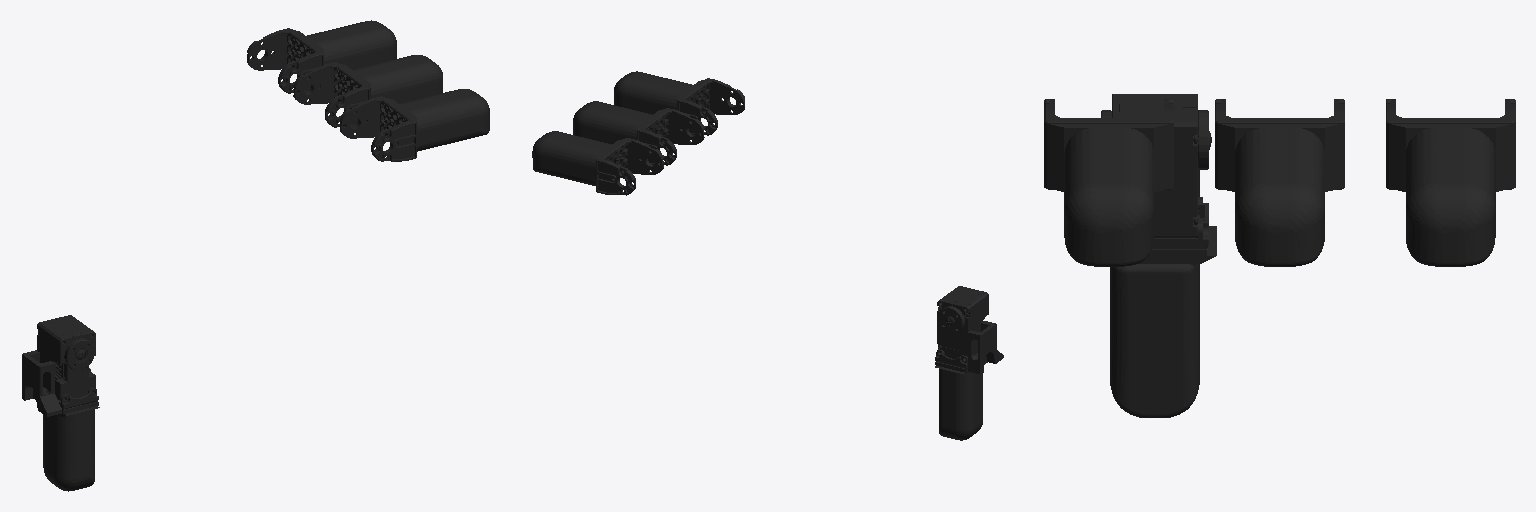
robot.urdf — onshape:
<robot name="onshape">

  <link name="palm_lower">
    <visual>
      <origin xyz="-0.020095249652862544332 -0.098757756134899473244 -0.034722403578460216134" rpy="0 -0 0" />
      <geometry>
        <mesh filename="../leap_hand/palm_lower_left.stl"/>
      </geometry>
      <material name="palm_lower_material">
        <color rgba="0.2 0.2 0.2 1.0"/>
      </material>
    </visual>
    <collision>
      <origin xyz="-0.040095249652862544332 -0.040757756134899473244 -0.015" rpy="0 -0 0" />
      <!-- <origin xyz="-0.020095249652862544332 0.025757756134899473244 -0.034722403578460216134" rpy="0 -0 0" /> -->
      <geometry>
        <box size="0.04 0.135 0.035"/>
        <!-- <mesh filename="../leap_hand/palm_lower_left.stl" /> -->
      </geometry>
    </collision>
    <inertial>
      <origin xyz="0 0 0" rpy="0 0 0"/>
      <mass value="0.237" />
      <inertia ixx="0.000354094" ixy="-0.000001193"  ixz="-0.000002445" iyy="0.000260915" iyz="-0.000002905" izz="0.000529257" />
    </inertial>
  </link>

  <link name="mcp_joint_1">
    <visual>
      <origin xyz="0.0084069022611744960438 0.0077662438597169954416 0.014657354985032912051" rpy="1.6375789613220999807e-15 -1.0210473302491019535e-30 1.7177968783327987474e-31" />
      <geometry>
        <mesh filename="../leap_hand/mcp_joint.stl"/>
      </geometry>
      <material name="mcp_joint_material">
        <color rgba="0.2 0.2 0.2 1.0"/>
      </material>
    </visual>
    <collision>
      <origin xyz="0.0084069022611744960438 0.0077662438597169954416 0.014657354985032912051" rpy="1.6375789613220999807e-15 -1.0210473302491019535e-30 1.7177968783327987474e-31" />
      <geometry>
        <mesh filename="../leap_hand/mcp_joint.stl" />
      </geometry>
    </collision>
    <inertial>
      <origin xyz="0 0 0" rpy="0 0 0"/>
        <mass value="0.044" />
      <inertia ixx="0.000011499" ixy="0.000003049"  ixz="0.000000121" iyy="0.000007796" iyz="0.000000112" izz="0.000014759" />
    </inertial>
  </link>

  <link name="pip_1">
    <visual>
      <origin xyz="0.0096433630922713280131 0.00029999999999998951117 0.00078403401041737645627" rpy="-1.570796326794896558 -1.570796326794896336 0" />
      <geometry>
        <mesh filename="../leap_hand/pip.stl"/>
      </geometry>
      <material name="pip_material">
        <color rgba="0.2 0.2 0.2 1.0"/>
      </material>
    </visual>
    <collision>
      <origin xyz="0.0096433630922713280131 0.00029999999999998951117 0.00078403401041737645627" rpy="-1.570796326794896558 -1.570796326794896336 0" />
      <geometry>
        <mesh filename="../leap_hand/pip.stl" />
      </geometry>
    </collision>
    <inertial>
      <origin xyz="0 0 0" rpy="0 0 0"/>
      <mass value="0.032" />
      <inertia ixx="0.000004798" ixy="0.000000012"  ixz="0.000000004" iyy="0.000002862" iyz="0.000000011" izz="0.000004234" />
    </inertial>
  </link>

  <link name="dip_1">
    <visual>
      <origin xyz="0.021133352895225002849 -0.0084321191467048792201 0.0097850881620952408213" rpy="-3.141592653589793116 4.5075111242164408299e-32 4.4395481053923607589e-32" />
      <geometry>
        <mesh filename="../leap_hand/dip.stl"/>
      </geometry>
      <material name="dip_material">
        <color rgba="0.2 0.2 0.2 1.0"/>
      </material>
    </visual>
    <collision>
      <origin xyz="0.021133352895225002849 -0.0084321191467048792201 0.0097850881620952408213" rpy="-3.141592653589793116 4.5075111242164408299e-32 4.4395481053923607589e-32" />
      <geometry>
        <mesh filename="../leap_hand/dip.stl" />
      </geometry>
    </collision>
    <inertial>
      <origin xyz="0 0 0" rpy="0 0 0"/>
      <mass value="0.037" />
      <inertia ixx="0.000005542" ixy="-0.000000607"  ixz="-0.000000017" iyy="0.000005727" iyz="-0.000000023" izz="0.000006682" />
    </inertial>
  </link>

  <link name="fingertip_1">
    <visual>
      <origin xyz="0.013286424108533503169 -0.0061142383865419869249 0.014499999999999497666" rpy="3.141592653589793116 1.1993117970061734707e-33 4.4395481053923607589e-32" />
      <geometry>
        <mesh filename="../leap_hand/fingertip.stl"/>
      </geometry>
      <material name="fingertip_material">
        <color rgba="0.2 0.2 0.2 1.0"/>
      </material>
    </visual>
    <collision>
      <origin xyz="0.013286424108533503169 -0.0061142383865419869249 0.014499999999999497666" rpy="3.141592653589793116 1.1993117970061734707e-33 4.4395481053923607589e-32" />
      <geometry>
        <mesh filename="../leap_hand/fingertip.stl" />
      </geometry>
    </collision>
    <inertial>
      <origin xyz="0 0 0" rpy="0 0 0"/>
      <mass value="0.016" />
      <inertia ixx="0.000003368" ixy="0.000000115"  ixz="0" iyy="0.000001556" iyz="0" izz="0.000002863" />
    </inertial>
  </link>

  <joint name="finger_joint_0" type="revolute">
    <origin xyz="-0.012200000000000007713 0.038099999999999994982 0.014500000000000000736" rpy="-1.570796326794896558 -1.0065212660796336576e-15 1.5707963267948943376" />
    <parent link="mcp_joint_1" />
    <child link="pip_1" />
    <axis xyz="0 0 -1"/>
    <limit effort="0.95" velocity="8.48" lower = "-1.047" upper = "1.047"/>
    <joint_properties friction="0.0"/>
  </joint>

  <joint name="finger_joint_1" type="revolute">
    <origin xyz="-0.0070952496528625457958 0.023057756134899472233 -0.01872240357846021927" rpy="1.5707963267948950037 1.5707963267948945596 0" />
    <parent link="palm_lower" />
    <child link="mcp_joint_1" />
    <axis xyz="0 0 -1"/>
    <limit effort="0.95" velocity="8.48" lower = "-0.314" upper = "2.23"/>
    <joint_properties friction="0.0"/>
  </joint>

  <joint name="finger_joint_2" type="revolute">
    <origin xyz="0.01499999999999996822 0.014299999999999904801 -0.012999999999999824196" rpy="1.5707963267948958919 -1.570796326794896336 0" />
    <parent link="pip_1" />
    <child link="dip_1" />
    <axis xyz="0 0 -1"/>
    <limit effort="0.95" velocity="8.48" lower = "-0.506" upper = "1.885"/>
    <joint_properties friction="0.0"/>
  </joint>

  <joint name="finger_joint_3" type="revolute">
    <origin xyz="-4.0880582495572692636e-09 -0.036100004210367367397 0.00020000000000007858714" rpy="4.5935029425113685044e-17 -2.8730071914463794583e-16 4.4395481053923607589e-32" />
    <parent link="dip_1" />
    <child link="fingertip_1" />
    <axis xyz="0 0 -1"/>
    <limit effort="0.95" velocity="8.48" lower = "-0.366" upper = "2.042"/>
    <joint_properties friction="0.0"/>
  </joint>

  <link name="mcp_joint_2">
    <visual>
      <origin xyz="0.0084069022611744960438 0.0077662438597169954416 0.014657354985032913786" rpy="1.6375789613220999807e-15 -1.0076465469034000467e-30 2.1209300131419907151e-61" />
      <geometry>
        <mesh filename="../leap_hand/mcp_joint.stl"/>
      </geometry>
      <material name="mcp_joint_material">
        <color rgba="0.2 0.2 0.2 1.0"/>
      </material>
    </visual>
    <collision>
      <origin xyz="0.0084069022611744960438 0.0077662438597169954416 0.014657354985032913786" rpy="1.6375789613220999807e-15 -1.0076465469034000467e-30 2.1209300131419907151e-61" />
      <geometry>
        <mesh filename="../leap_hand/mcp_joint.stl" />
      </geometry>
    </collision>
    <inertial>
      <origin xyz="0 0 0" rpy="0 0 0"/>
      <mass value="0.044" />
      <inertia ixx="0.000011499" ixy="0.000003049"  ixz="0.000000121" iyy="0.000007796" iyz="0.000000112" izz="0.000014759" />
    </inertial>
  </link>

  <link name="pip_2">
    <visual>
      <origin xyz="0.0096433630922713280131 0.00029999999999999471534 0.00078403401041737645627" rpy="-1.570796326794896558 -1.570796326794896336 0" />
      <geometry>
        <mesh filename="../leap_hand/pip.stl"/>
      </geometry>
      <material name="pip_material">
        <color rgba="0.2 0.2 0.2 1.0"/>
      </material>
    </visual>
    <collision>
      <origin xyz="0.0096433630922713280131 0.00029999999999999471534 0.00078403401041737645627" rpy="-1.570796326794896558 -1.570796326794896336 0" />
      <geometry>
        <mesh filename="../leap_hand/pip.stl" />
      </geometry>
    </collision>
    <inertial>
      <origin xyz="0 0 0" rpy="0 0 0"/>
      <mass value="0.032" />
      <inertia ixx="0.000004798" ixy="0.000000012"  ixz="0.000000004" iyy="0.000002862" iyz="0.000000011" izz="0.000004234" />
    </inertial>
  </link>

  <link name="dip_2">
    <visual>
      <origin xyz="0.021133352895225002849 -0.0084321191467048653423 0.0097850881620952373519" rpy="-3.141592653589793116 2.1146933785271955805e-32 1.4408183216511868558e-31" />
      <geometry>
        <mesh filename="../leap_hand/dip.stl"/>
      </geometry>
      <material name="dip_material">
        <color rgba="0.2 0.2 0.2 1.0"/>
      </material>
    </visual>
    <collision>
      <origin xyz="0.021133352895225002849 -0.0084321191467048653423 0.0097850881620952373519" rpy="-3.141592653589793116 2.1146933785271955805e-32 1.4408183216511868558e-31" />
      <geometry>
        <mesh filename="../leap_hand/dip.stl" />
      </geometry>
    </collision>
    <inertial>
      <origin xyz="0 0 0" rpy="0 0 0"/>
      <mass value="0.037" />
      <inertia ixx="0.000005542" ixy="-0.000000607"  ixz="-0.000000017" iyy="0.000005727" iyz="-0.000000023" izz="0.000006682" />
    </inertial>
  </link>

  <link name="fingertip_2">
    <visual>
      <origin xyz="0.01328642410853349623 -0.0061142383865420008027 0.014499999999999495931" rpy="3.141592653589793116 -4.3179597882835943107e-33 1.4408183216511868558e-31" />
      <geometry>
        <mesh filename="../leap_hand/fingertip.stl"/>
      </geometry>
      <material name="fingertip_material">
        <color rgba="0.2 0.2 0.2 1.0"/>
      </material>
    </visual>
    <collision>
      <origin xyz="0.01328642410853349623 -0.0061142383865420008027 0.014499999999999495931" rpy="3.141592653589793116 -4.3179597882835943107e-33 1.4408183216511868558e-31" />
      <geometry>
        <mesh filename="../leap_hand/fingertip.stl" />
      </geometry>
    </collision>
    <inertial>
      <origin xyz="0 0 0" rpy="0 0 0"/>
      <mass value="0.016" />
      <inertia ixx="0.000003368" ixy="0.000000115"  ixz="0" iyy="0.000001556" iyz="0" izz="0.000002863" />
    </inertial>
  </link>

  <joint name="finger_joint_4" type="revolute">
    <origin xyz="-0.012200000000000019856 0.038099999999999981104 0.01450000000000000594" rpy="-1.570796326794896558 -1.0065212760057939085e-15 1.5707963267948943376" />
    <parent link="mcp_joint_2" />
    <child link="pip_2" />
    <axis xyz="0 0 -1"/>
    <limit effort="0.95" velocity="8.48" lower = "-1.047" upper = "1.047"/>
    <joint_properties friction="0.0"/>
  </joint>

  <joint name="finger_joint_5" type="revolute">
    <origin xyz="-0.0070952496528625388569 -0.022392243865100525113 -0.018722403578460229678" rpy="1.570796326794896558 1.570796326794896558 0" />
    <parent link="palm_lower" />
    <child link="mcp_joint_2" />
    <axis xyz="0 0 -1"/>
    <limit effort="0.95" velocity="8.48" lower = "-0.314" upper = "2.23"/>
    <joint_properties friction="0.0"/>
  </joint>

  <joint name="finger_joint_6" type="revolute">
    <origin xyz="0.014999999999999975159 0.014300000000000000211 -0.013000000000000018485" rpy="1.5707963267948958919 -1.570796326794896336 0" />
    <parent link="pip_2" />
    <child link="dip_2" />
    <axis xyz="0 0 -1"/>
    <limit effort="0.95" velocity="8.48" lower = "-0.506" upper = "1.885"/>
    <joint_properties friction="0.0"/>
  </joint>

  <joint name="finger_joint_7" type="revolute">
    <origin xyz="1.0061396160665481148e-16 -0.036099999999999854428 0.00020000000000007858714" rpy="4.5935029425113654229e-17 -2.8730071914463794583e-16 1.4408183216511868558e-31" />
    <parent link="dip_2" />
    <child link="fingertip_2" />
    <axis xyz="0 0 -1"/>
    <limit effort="0.95" velocity="8.48" lower = "-0.366" upper = "2.042"/>
    <joint_properties friction="0.0"/>
  </joint>

  <link name="mcp_joint_3">
    <visual>
      <origin xyz="0.0084069022611744995133 0.0077662438597169963089 0.014657354985032913786" rpy="1.6375789613220999807e-15 -1.0059504988632626953e-30 5.729641584552035421e-32" />
      <geometry>
        <mesh filename="../leap_hand/mcp_joint.stl"/>
      </geometry>
      <material name="mcp_joint_material">
        <color rgba="0.2 0.2 0.2 1.0"/>
      </material>
    </visual>
    <collision>
      <origin xyz="0.0084069022611744995133 0.0077662438597169963089 0.014657354985032913786" rpy="1.6375789613220999807e-15 -1.0059504988632626953e-30 5.729641584552035421e-32" />
      <geometry>
        <mesh filename="../leap_hand/mcp_joint.stl" />
      </geometry>
    </collision>
    <inertial>
      <origin xyz="0 0 0" rpy="0 0 0"/>
      <mass value="0.044" />
      <inertia ixx="0.000011499" ixy="0.000003049"  ixz="0.000000121" iyy="0.000007796" iyz="0.000000112" izz="0.000014759" />
    </inertial>
  </link>

  <link name="pip_3">
    <visual>
      <origin xyz="0.0096433630922713314826 0.00029999999999998083755 0.00078403401041737645627" rpy="-1.570796326794896558 -1.570796326794896336 0" />
      <geometry>
        <mesh filename="../leap_hand/pip.stl"/>
      </geometry>
      <material name="pip_material">
        <color rgba="0.2 0.2 0.2 1.0"/>
      </material>
    </visual>
    <collision>
      <origin xyz="0.0096433630922713314826 0.00029999999999998083755 0.00078403401041737645627" rpy="-1.570796326794896558 -1.570796326794896336 0" />
      <geometry>
        <mesh filename="../leap_hand/pip.stl" />
      </geometry>
    </collision>
    <inertial>
      <origin xyz="0 0 0" rpy="0 0 0"/>
      <mass value="0.032" />
      <inertia ixx="0.000004798" ixy="0.000000012"  ixz="0.000000004" iyy="0.000002862" iyz="0.000000011" izz="0.000004234" />
    </inertial>
  </link>

  <link name="dip_3">
    <visual>
      <origin xyz="0.021133352895225006318 -0.0084321191467048653423 0.0097850881620952373519" rpy="-3.141592653589793116 -1.4095651113919093005e-33 1.5565411607615035382e-32" />
      <geometry>
        <mesh filename="../leap_hand/dip.stl"/>
      </geometry>
      <material name="dip_material">
        <color rgba="0.2 0.2 0.2 1.0"/>
      </material>
    </visual>
    <collision>
      <origin xyz="0.021133352895225006318 -0.0084321191467048653423 0.0097850881620952373519" rpy="-3.141592653589793116 -1.4095651113919093005e-33 1.5565411607615035382e-32" />
      <geometry>
        <mesh filename="../leap_hand/dip.stl" />
      </geometry>
    </collision>
    <inertial>
      <origin xyz="0 0 0" rpy="0 0 0"/>
      <mass value="0.037" />
      <inertia ixx="0.000005542" ixy="-0.000000607"  ixz="-0.000000017" iyy="0.000005727" iyz="-0.000000023" izz="0.000006682" />
    </inertial>
  </link>

  <link name="fingertip_3">
    <visual>
      <origin xyz="0.013286424108533501434 -0.0061142383865419869249 0.0144999999999994994" rpy="3.141592653589793116 8.6170716950575402125e-33 1.5565411607615035382e-32" />
      <geometry>
        <mesh filename="../leap_hand/fingertip.stl"/>
      </geometry>
      <material name="fingertip_material">
        <color rgba="0.2 0.2 0.2 1.0"/>
      </material>
    </visual>
    <collision>
      <origin xyz="0.013286424108533501434 -0.0061142383865419869249 0.0144999999999994994" rpy="3.141592653589793116 8.6170716950575402125e-33 1.5565411607615035382e-32" />
      <geometry>
        <mesh filename="../leap_hand/fingertip.stl" />
      </geometry>
    </collision>
    <inertial>
      <origin xyz="0 0 0" rpy="0 0 0"/>
      <mass value="0.016" />
      <inertia ixx="0.000003368" ixy="0.000000115"  ixz="0" iyy="0.000001556" iyz="0" izz="0.000002863" />
    </inertial>
  </link>

  <joint name="finger_joint_8" type="revolute">
    <origin xyz="-0.012200000000000004244 0.038100000000000001921 0.014499999999999999001" rpy="-1.570796326794896558 -1.0065212660796360242e-15 1.5707963267948943376" />
    <parent link="mcp_joint_3" />
    <child link="pip_3" />
    <axis xyz="0 0 -1"/>
    <limit effort="0.95" velocity="8.48" lower = "-1.047" upper = "1.047"/>
    <joint_properties friction="0.0"/>
  </joint>

  <joint name="finger_joint_9" type="revolute">
    <origin xyz="-0.0070952454426398371343 -0.067842243865100515521 -0.018722407666402932774" rpy="1.5707963267948950037 1.5707963267948945596 0" />
    <parent link="palm_lower" />
    <child link="mcp_joint_3" />
    <axis xyz="0 0 -1"/>
    <limit effort="0.95" velocity="8.48" lower = "-0.314" upper = "2.23"/>
    <joint_properties friction="0.0"/>
  </joint>

  <joint name="finger_joint_10" type="revolute">
    <origin xyz="0.014999999999999971689 0.014299999999999951639 -0.012999999999999959505" rpy="1.5707963267948958919 -1.570796326794896336 0" />
    <parent link="pip_3" />
    <child link="dip_3" />
    <axis xyz="0 0 -1"/>
    <limit effort="0.95" velocity="8.48" lower = "-0.506" upper = "1.885"/>
    <joint_properties friction="0.0"/>
  </joint>

  <joint name="finger_joint_11" type="revolute">
    <origin xyz="9.7144514654701197287e-17 -0.036099999999999868305 0.00020000000000007511769" rpy="4.5935029425113685044e-17 -2.8730071914463799514e-16 1.5565411607615035382e-32" />
    <parent link="dip_3" />
    <child link="fingertip_3" />
    <axis xyz="0 0 -1"/>
    <limit effort="0.95" velocity="8.48" lower = "-0.366" upper = "2.042"/>
    <joint_properties friction="0.0"/>
  </joint>

  <link name="mcp_joint_4">
    <visual>
      <origin xyz="-0.0053566369077286714317 0.0029999999999999991951 0.00078403401041737819099" rpy="-1.570796326794896558 -1.570796326794896336 0" />
      <geometry>
        <mesh filename="../leap_hand/pip.stl"/>
      </geometry>
      <material name="pip_material">
        <color rgba="0.2 0.2 0.2 1.0"/>
      </material>
    </visual>
    <collision>
      <origin xyz="-0.0053566369077286714317 0.00029999999999999991951 0.00078403401041737819099" rpy="-1.570796326794896558 -1.570796326794896336 0" />
      <geometry>
        <mesh filename="../leap_hand/pip.stl" />
      </geometry>
    </collision>
    <inertial>
      <origin xyz="0 0 0" rpy="0 0 0"/>
      <mass value="0.032" />
      <inertia ixx="0.000004798" ixy="0.000000012"  ixz="0.000000004" iyy="0.000002862" iyz="0.000000011" izz="0.000004234" />
    </inertial>
  </link>

  <link name="pip_4">
    <visual>
      <origin xyz="0.011961920770611186859 -5.3082538364890297089e-16 -0.015852648956664199681" rpy="1.570796326794896558 1.6050198443300152637e-46 -3.9204996250525192755e-59" />
      <geometry>
        <mesh filename="../leap_hand/thumb_pip.stl"/>
      </geometry>
      <material name="thumb_pip_material">
        <color rgba="0.2 0.2 0.2 1.0"/>
      </material>
    </visual>
    <collision>
    <origin xyz="0.011961920770611186859 -5.3082538364890297089e-16 -0.015852648956664199681" rpy="1.570796326794896558 1.6050198443300152637e-46 -3.9204996250525192755e-59" />
      <geometry>
        <mesh filename="../leap_hand/thumb_pip.stl" />
      </geometry>
    </collision>
    <inertial>
      <origin xyz="0 0 0" rpy="0 0 0"/>
      <mass value="0.003" />
      <inertia ixx="0.000000593" ixy="0"  ixz="0" iyy="0.000000549" iyz="0" izz="0.000000224" />
    </inertial>
  </link>

  <link name="dip_4">
    <visual>
      <origin xyz="0.043968715707239175439 0.057952952973709198625 -0.0086286764493694757122" rpy="1.9428902930940098942e-16 3.2751579226442200773e-15 1.1123758529657360012e-46" />
      <geometry>
        <mesh filename="../leap_hand/thumb_dip.stl"/>
      </geometry>
      <material name="thumb_dip_material">
        <color rgba="0.2 0.2 0.2 1.0"/>
      </material>
    </visual>
    <collision>
      <origin xyz="0.043968715707239175439 0.057952952973709198625 -0.0086286764493694757122" rpy="1.9428902930940098942e-16 3.2751579226442200773e-15 1.1123758529657360012e-46" />
      <geometry>
        <mesh filename="../leap_hand/thumb_dip.stl" />
      </geometry>
    </collision>
    <inertial>
      <origin xyz="0 0 0" rpy="0 0 0"/>
      <mass value="0.038" />
      <inertia ixx="0.000008474" ixy="0.000000241"  ixz="0.000000026" iyy="0.000003841" iyz="0.000000025" izz="0.000007679" />
    </inertial>
  </link>

  <link name="fingertip_4">
    <visual>
      <origin xyz="0.062559538462667388381 0.078459682911396988469 0.048992911807332215068" rpy="4.3790577010156367543e-47 -3.3306690738754701143e-16 1.2042408677791935383e-46" />
      <geometry>
        <mesh filename="../leap_hand/thumb_fingertip.stl"/>
      </geometry>
      <material name="thumb_fingertip_material">
        <color rgba="0.2 0.2 0.2 1.0"/>
      </material>
    </visual>
    <collision>
      <origin xyz="0.062559538462667388381 0.078459682911396988469 0.048992911807332215068" rpy="4.3790577010156367543e-47 -3.3306690738754701143e-16 1.2042408677791935383e-46" />
      <geometry>
        <mesh filename="../leap_hand/thumb_fingertip.stl" />
      </geometry>
    </collision>
    <inertial>
      <origin xyz="0 0 0" rpy="0 0 0"/>
      <mass value="0.049" />
      <inertia ixx="0.000020372" ixy="-0.000000489"  ixz="-0.00000003" iyy="0.000004336" iyz="-0.000000097" izz="0.000019845" />
    </inertial>
  </link>

  <joint name="finger_joint_12" type="revolute">
    <origin xyz="-0.069395249652862533996 -0.071 -0.021622403578460215601" rpy="-1.571 0.0 -1.571" />
    <!-- <origin xyz="-0.069395249652862533996 -0.0012422438651005258004 -0.021622403578460215601" rpy="-8.2381766464939424156e-17 1.5707963267948956698 0" /> -->
    <parent link="palm_lower" />
    <child link="mcp_joint_4" />
    <axis xyz="0 0 -1"/>
    <limit effort="0.95" velocity="8.48" lower = "-0.349" upper = "2.094"/>
    <joint_properties friction="0.0"/>
  </joint>

  <joint name="finger_joint_13" type="revolute">
    <origin xyz="-2.7755575615628913511e-17 0.014300000000000005415 -0.013000000000000011546" rpy="1.5707963267948958919 -1.570796326794896336 0" />
    <!-- <origin xyz="-2.7755575615628913511e-17 0.014300000000000005415 -0.013000000000000011546" rpy="1.5707963267948958919 -1.570796326794896336 0" /> -->
    <parent link="mcp_joint_4" />
    <child link="pip_4" />
    <axis xyz="0 0 1"/>
    <limit effort="0.95" velocity="8.48" lower = "-0.47" upper = "2.443"/>
    <joint_properties friction="0.0"/>
  </joint>

  <joint name="finger_joint_14" type="revolute">
    <origin xyz="0 0.014499999999999966041 -0.017000000000000053263" rpy="-1.570796326794896558 1.6050198443300131245e-46 -1.9721522630516624601e-31" />
    <parent link="pip_4" />
    <child link="dip_4" />
    <axis xyz="0 0 -1"/>
    <limit effort="0.95" velocity="8.48" lower = "-1.20" upper = "1.90"/>
    <joint_properties friction="0.0"/>
  </joint>

  <joint name="finger_joint_15" type="revolute">
    <origin xyz="-1.249000902703301108e-16 0.046599999999999863753 0.00019999999999997710581" rpy="1.5063958491491781023e-44 5.4234187233935260503e-31 3.141592653589793116" />
    <parent link="dip_4" />
    <child link="fingertip_4" />
    <axis xyz="0 0 -1"/>
    <limit effort="0.95" velocity="8.48" lower = "-1.34" upper = "1.88"/>
    <joint_properties friction="0.0"/>
  </joint>

</robot>

--- What the picture shows (computed from the rendered views, not written in the file) ---
3 views of the same robot in one strip: view 1: azimuth 30°, elevation 25°; view 2: azimuth 150°, elevation 25°; view 3: azimuth 270°, elevation 25° (orthographic).
Model onshape with 17 links and 16 joints (16 revolute), rooted at palm_lower, posed all joints at 0.
Links seen in each view (by area): view 1: fingertip_4, fingertip_3, fingertip_1, fingertip_2; view 2: fingertip_4, fingertip_1, fingertip_2, fingertip_3; view 3: fingertip_4, fingertip_2, fingertip_1, fingertip_3.
Boxes of the visible links, box(x1,y1,x2,y2) form: fingertip_4: box(22, 315, 99, 491); fingertip_3: box(340, 89, 489, 161); fingertip_1: box(247, 20, 396, 93); fingertip_2: box(293, 55, 442, 127); fingertip_4: box(935, 286, 1003, 440); fingertip_1: box(532, 131, 663, 195); fingertip_2: box(573, 101, 704, 165); fingertip_3: box(614, 71, 744, 135); fingertip_4: box(1101, 94, 1216, 417); fingertip_2: box(1215, 99, 1344, 266); fingertip_1: box(1386, 99, 1515, 266); fingertip_3: box(1044, 99, 1173, 266).
Size in the robot's own frame: 0.2478 by 0.1255 by 0.1673 metres.
4 mesh visuals loaded from 8 distinct referenced files (2 binary STL); not drawn: 13 (reference not matched to a file when rendering).